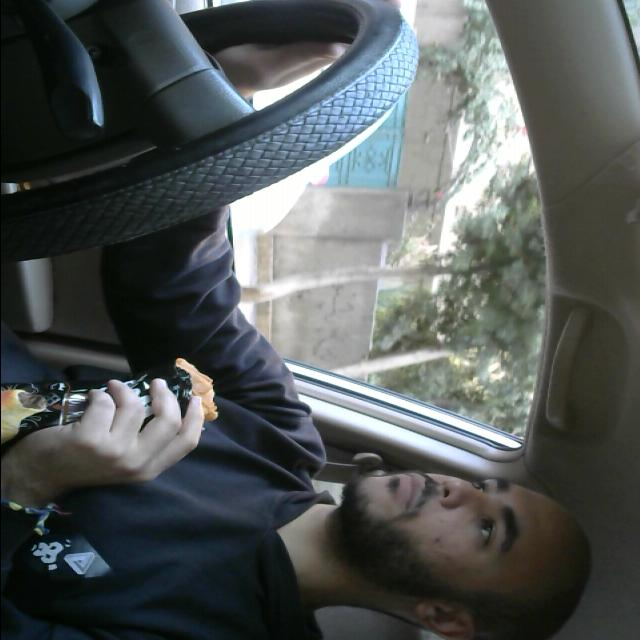eating: (0, 359, 246, 450)
